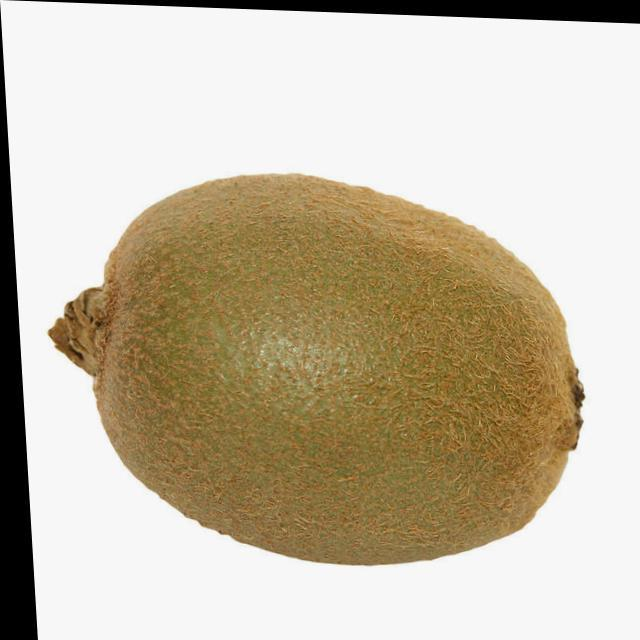kiwi: (36, 162, 589, 574)
